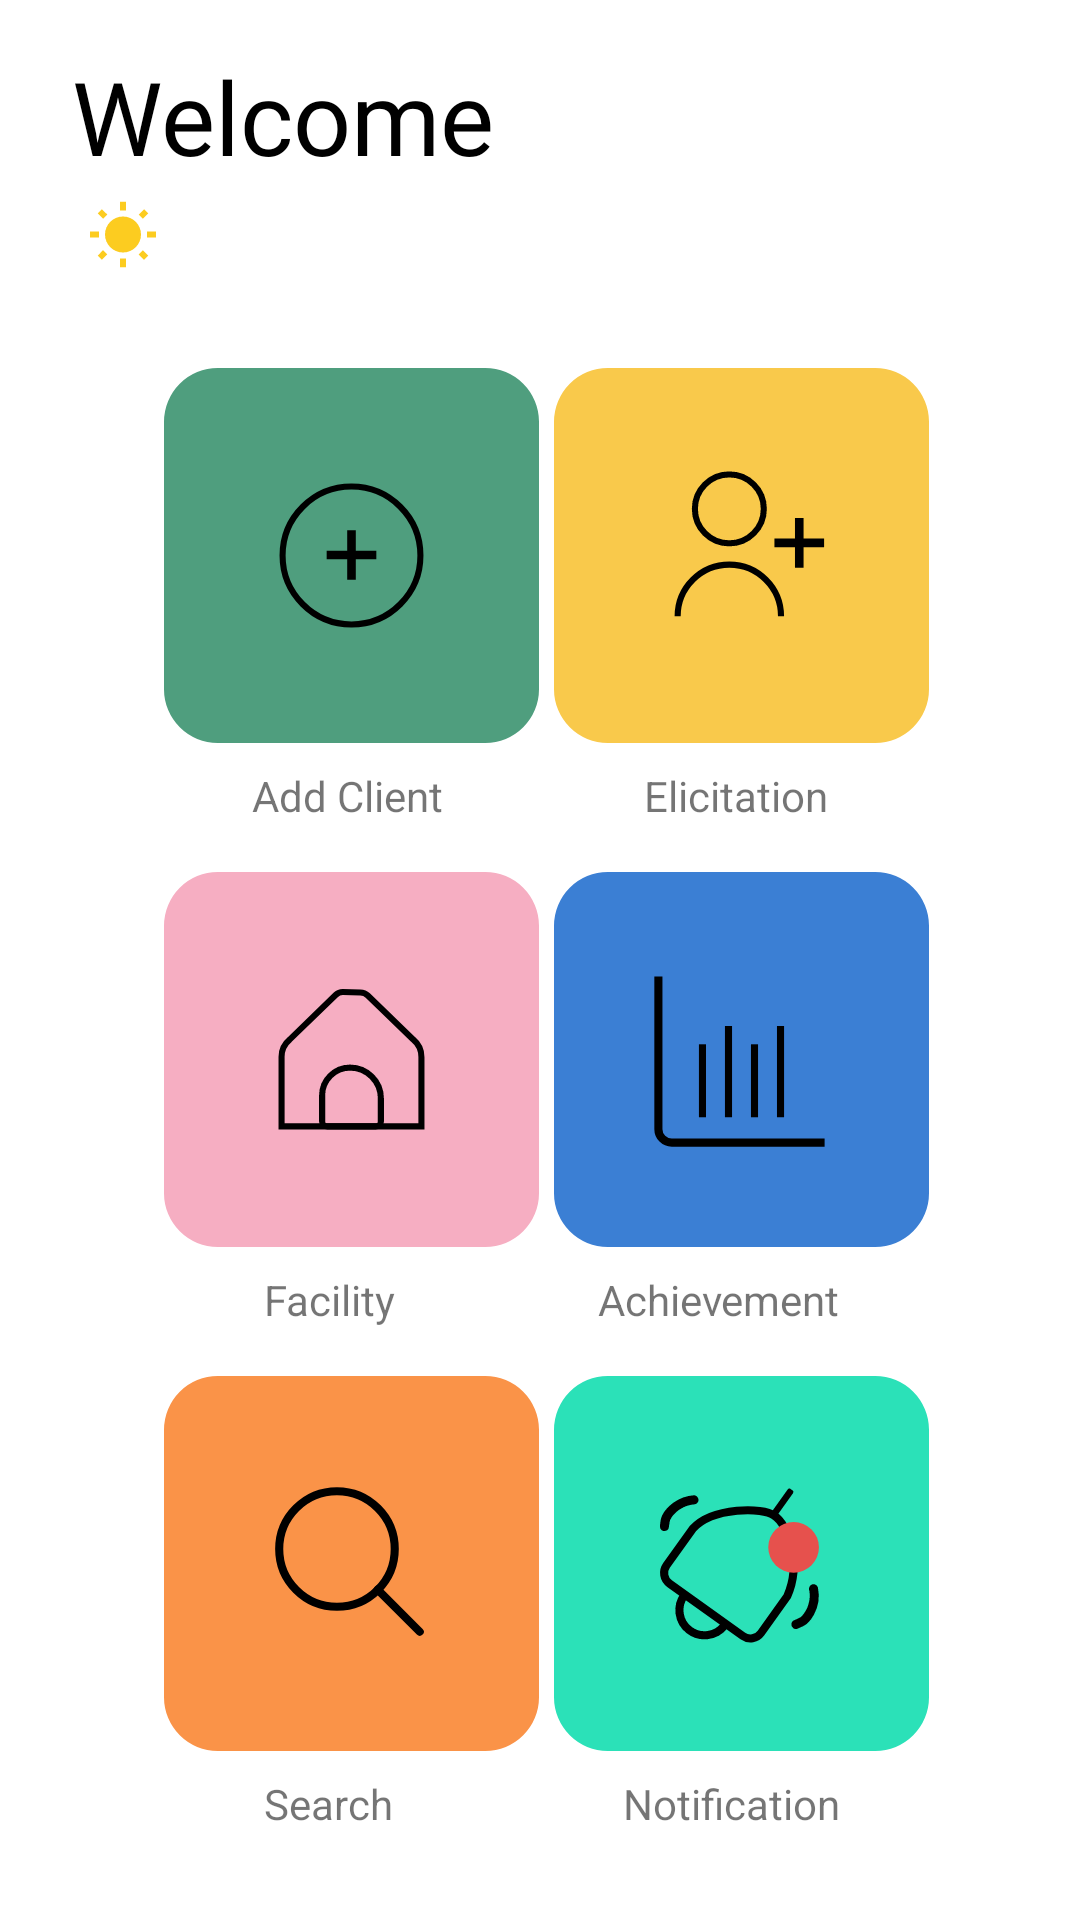

Icon click points for this 1080×1920 phone screenshot, format (x=x, y=y):
sunny: (x=123, y=234)
